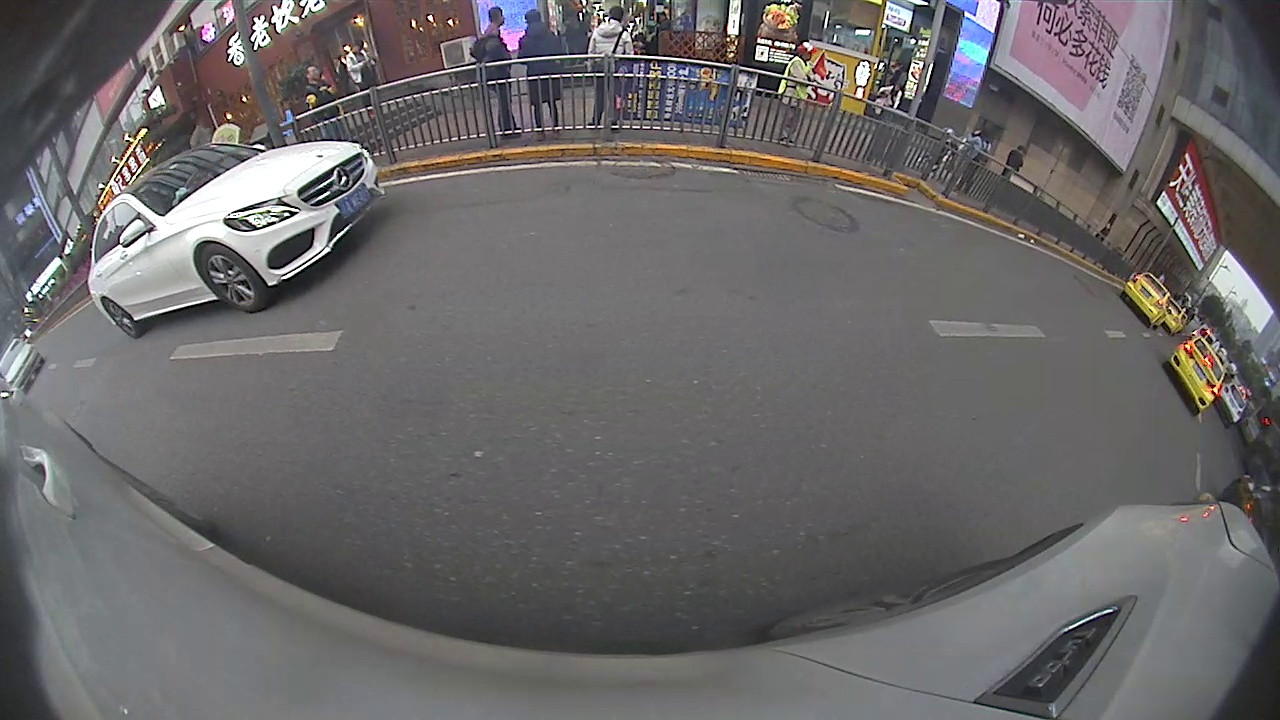car: (87, 142, 385, 339), (1163, 328, 1226, 416), (1118, 271, 1173, 327)
front: (194, 246, 263, 315)
person: (463, 8, 520, 140), (583, 7, 635, 130), (520, 8, 564, 143), (773, 41, 823, 147)
rear: (103, 299, 138, 342)
